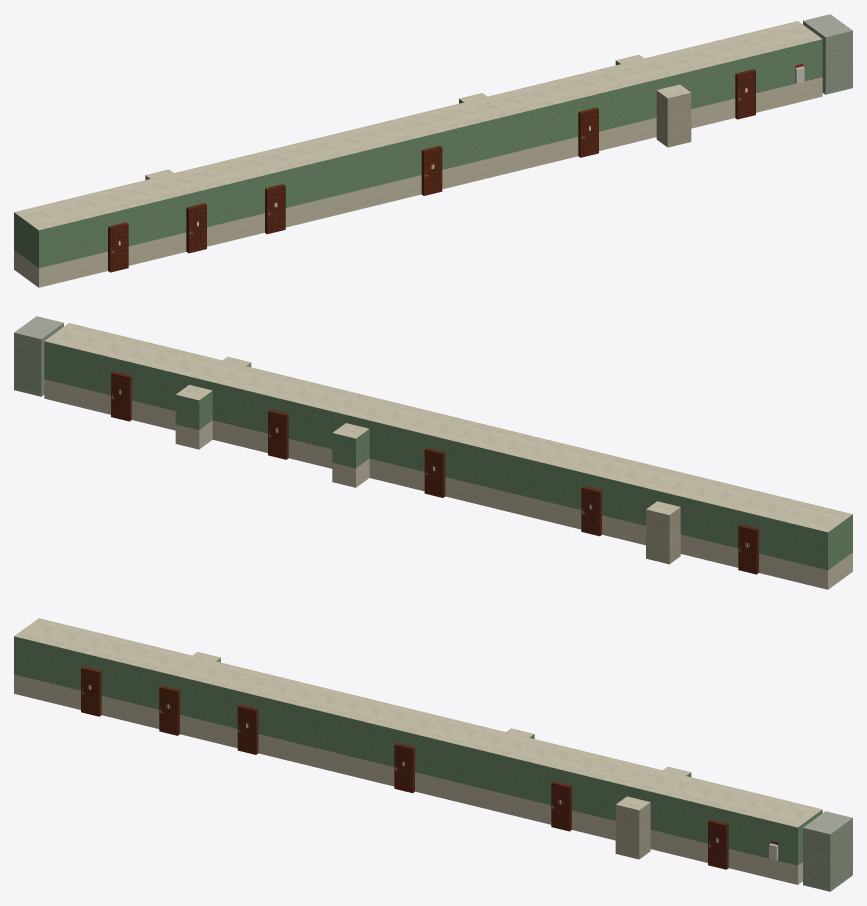
File: floor_2_upper.glb
3 views of the same model, one above another, from view 1: azimuth 30°, elevation 25°; view 2: azimuth 150°, elevation 25°; view 3: azimuth 330°, elevation 25° (orthographic).
Visible parts, largest first — view 1: Wall_Green.001, Ceiling_Plaster.001, Wainscot.001, Stair_Paint.001, Closet_Paint.001, Door_Jamb.001, DoorLeaf_room_217, DoorLeaf_room_218, DoorLeaf_key_room, DoorLeaf_room_216, DoorLeaf_room_220, DoorLeaf_room_219 (+1 smaller); view 2: Wall_Green.001, Ceiling_Plaster.001, Wainscot.001, Stair_Paint.001, Closet_Paint.001, Door_Jamb.001, DoorLeaf_room_212, DoorLeaf_room_213, DoorLeaf_room_211, DoorLeaf_room_215, DoorLeaf_room_214, Stair_Ceiling.001; view 3: Wall_Green.001, Ceiling_Plaster.001, Wainscot.001, Stair_Paint.001, Closet_Paint.001, Door_Jamb.001, DoorLeaf_room_219, DoorLeaf_room_220, DoorLeaf_room_216, DoorLeaf_key_room, DoorLeaf_room_218, DoorLeaf_room_217 (+1 smaller).
Part boxes in pixels (x1,y1,x2,y2): Wall_Green.001: (14,39,822,268); Ceiling_Plaster.001: (14,21,822,230); Wainscot.001: (14,77,822,287); Stair_Paint.001: (803,21,852,94); Closet_Paint.001: (145,90,691,179); Door_Jamb.001: (108,69,755,272); DoorLeaf_room_217: (267,186,285,234); DoorLeaf_room_218: (424,147,442,195); DoorLeaf_key_room: (188,205,206,253); DoorLeaf_room_216: (110,224,128,272); DoorLeaf_room_220: (737,71,755,119); DoorLeaf_room_219: (580,109,598,157); Wall_Green.001: (44,341,852,570); Ceiling_Plaster.001: (44,323,852,532); Wainscot.001: (44,379,852,589); Stair_Paint.001: (14,323,63,396); Closet_Paint.001: (246,362,680,564); Door_Jamb.001: (111,371,758,574); DoorLeaf_room_212: (581,488,599,536); DoorLeaf_room_213: (424,449,442,497); DoorLeaf_room_211: (738,526,756,574); DoorLeaf_room_215: (111,373,129,421); DoorLeaf_room_214: (268,411,286,459); Stair_Ceiling.001: (14,316,63,339); Wall_Green.001: (14,636,822,865); Ceiling_Plaster.001: (14,618,822,827); Wainscot.001: (14,674,802,884); Stair_Paint.001: (803,818,852,891); Closet_Paint.001: (216,658,650,859); Door_Jamb.001: (81,666,728,869); DoorLeaf_room_219: (551,783,569,831); DoorLeaf_room_220: (708,821,726,869); DoorLeaf_room_216: (81,668,99,716); DoorLeaf_key_room: (159,687,177,735); DoorLeaf_room_218: (394,744,412,792); DoorLeaf_room_217: (237,706,255,754).
Bounding box in the file's own units: 41.6 × 2.8 × 4.6.
39 materials, 27 textured.
